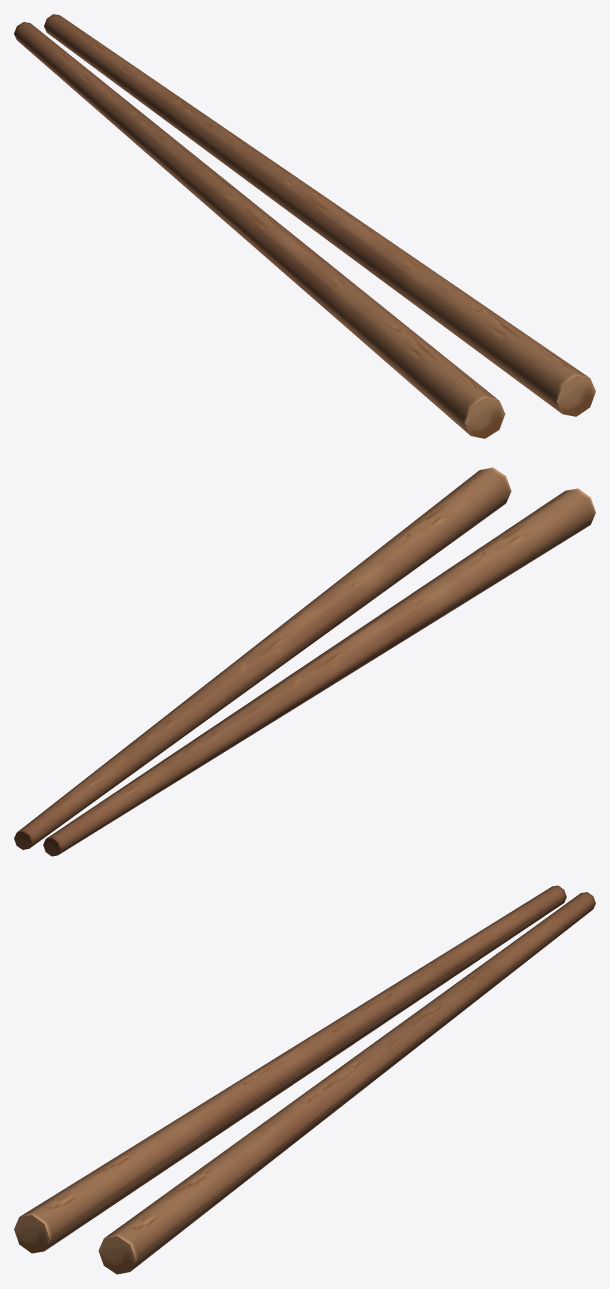
File: Ramenbaguettedouble.fbx
3 views of the same model, one above another, from view 1: azimuth 30°, elevation 25°; view 2: azimuth 150°, elevation 25°; view 3: azimuth 330°, elevation 25° (orthographic). The views are drawn at different scales.
Parts seen in each view (by area): view 1: Ramenbaguettedouble; view 2: Ramenbaguettedouble; view 3: Ramenbaguettedouble.
Part boxes in pixels (x1,y1,x2,y2): Ramenbaguettedouble: [14, 14, 595, 438]; Ramenbaguettedouble: [14, 467, 595, 856]; Ramenbaguettedouble: [14, 885, 595, 1274].
Size of the model in its own units: 6.92 by 2.09 by 47.08.
